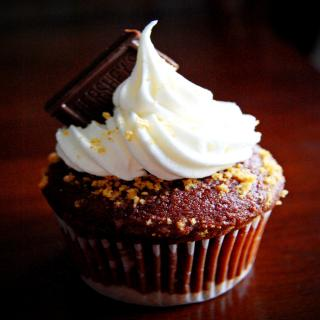Cake: (32, 18, 293, 305)
Ice cream: (64, 51, 271, 194)
Muffin: (35, 19, 287, 309)
